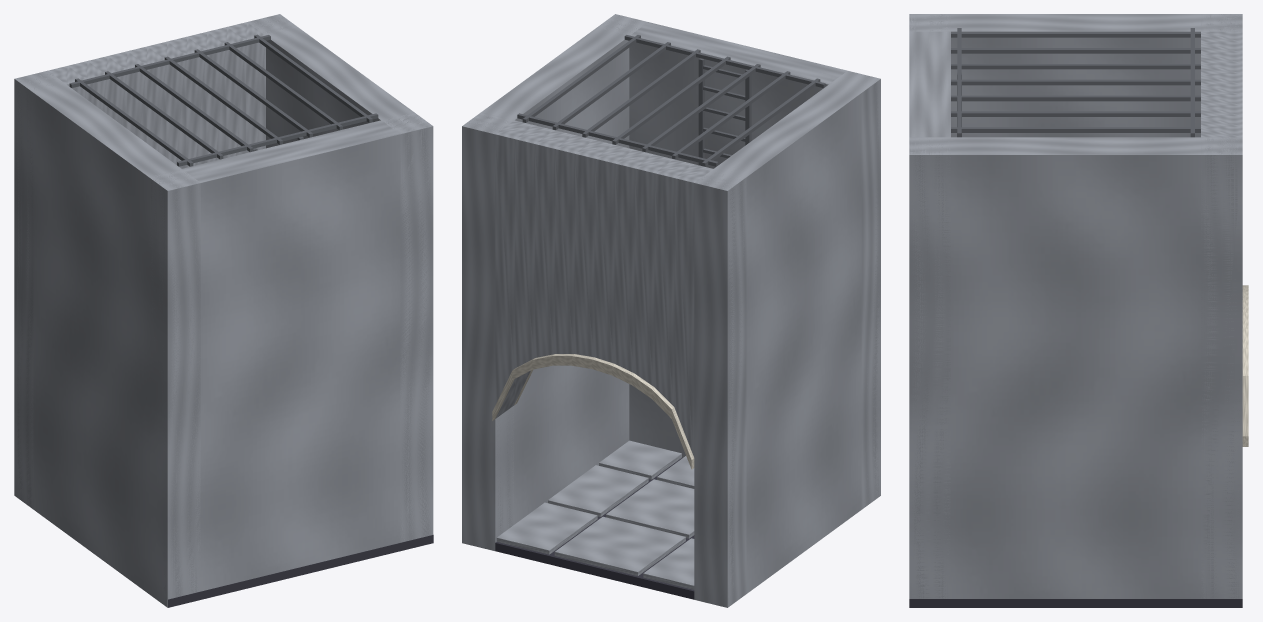
File: vampire-crypt-and-gothic-cathedral-ladder-shaft-aa390c82__22991.glb
3 views of the same model, side by side, from view 1: azimuth 30°, elevation 25°; view 2: azimuth 150°, elevation 25°; view 3: azimuth 270°, elevation 25° (orthographic). The views are drawn at different scales.
Visible parts, largest first — view 1: ladder-shaft; view 2: ladder-shaft; view 3: ladder-shaft.
Part boxes in pixels (x1,y1,x2,y2): ladder-shaft: [14, 14, 433, 607]; ladder-shaft: [462, 14, 880, 607]; ladder-shaft: [909, 14, 1248, 607].
Size of the model in its own units: 4 by 6.05 by 4.07.
Materials: 4 (2 with a texture image).
